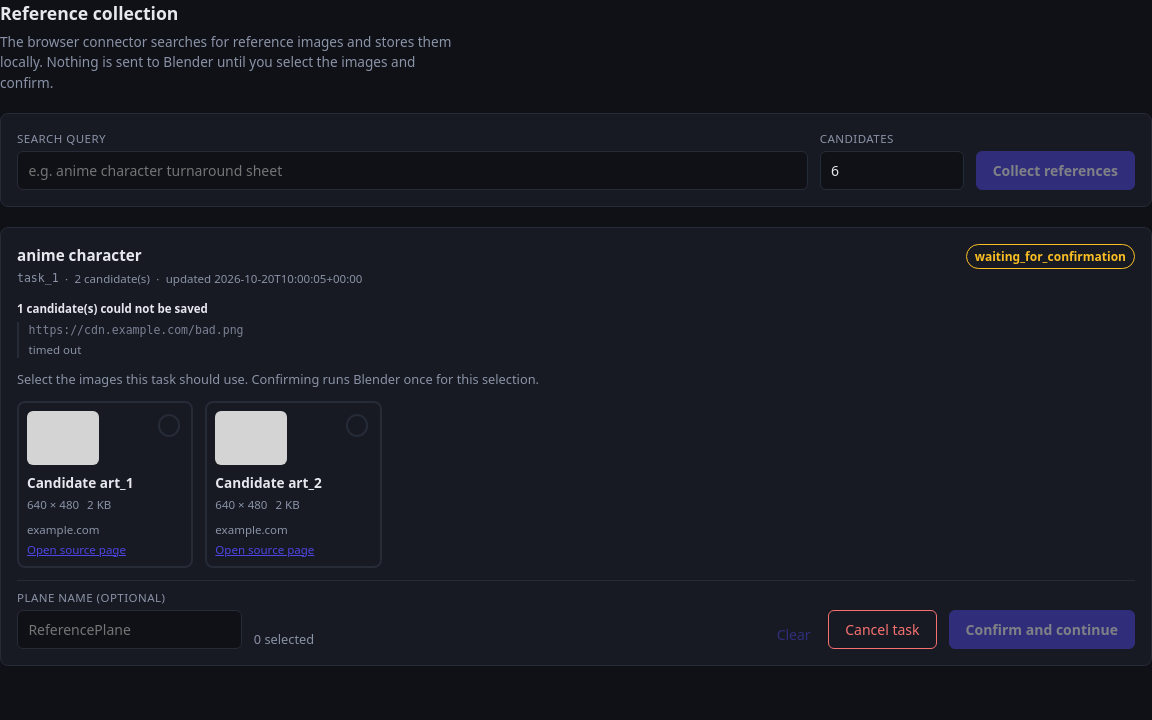
ReferencesView › shows the execution outcome after a successful confirmation
The width and height of the screenshot is (1152, 720).
Click the checkbox with test id "card-art_1" at [105, 484], box [17,401,193,568]
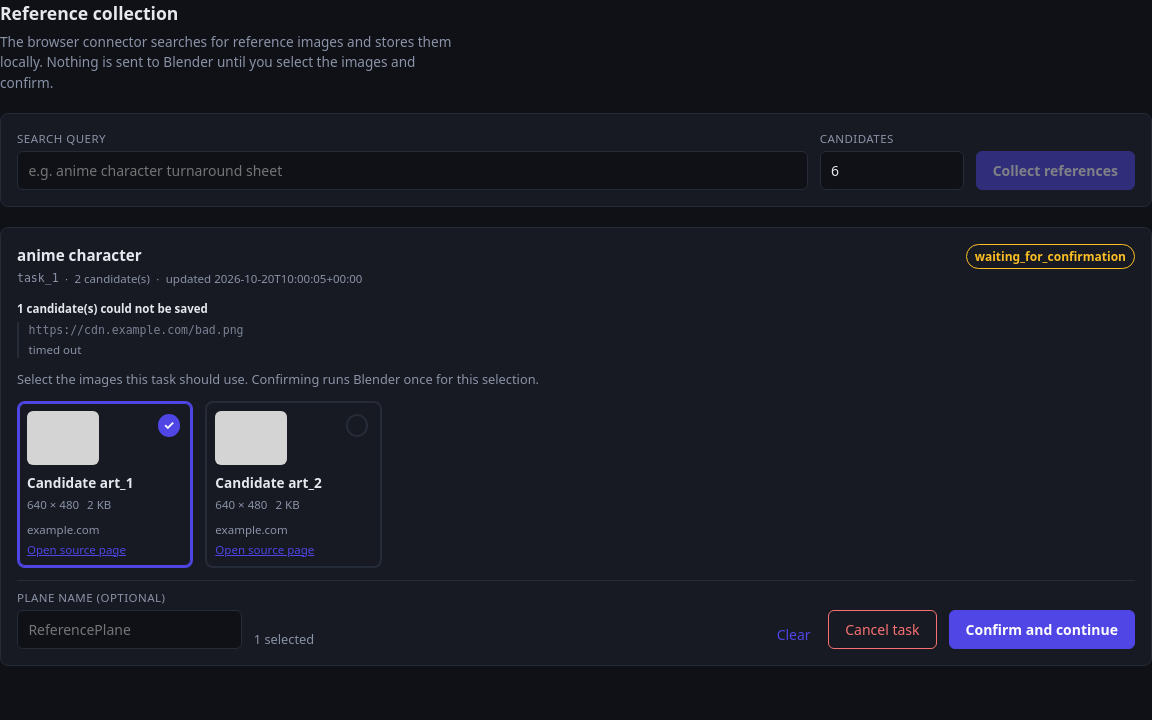
Click the button with test id "confirm" at [1042, 630], box [948,610,1135,649]
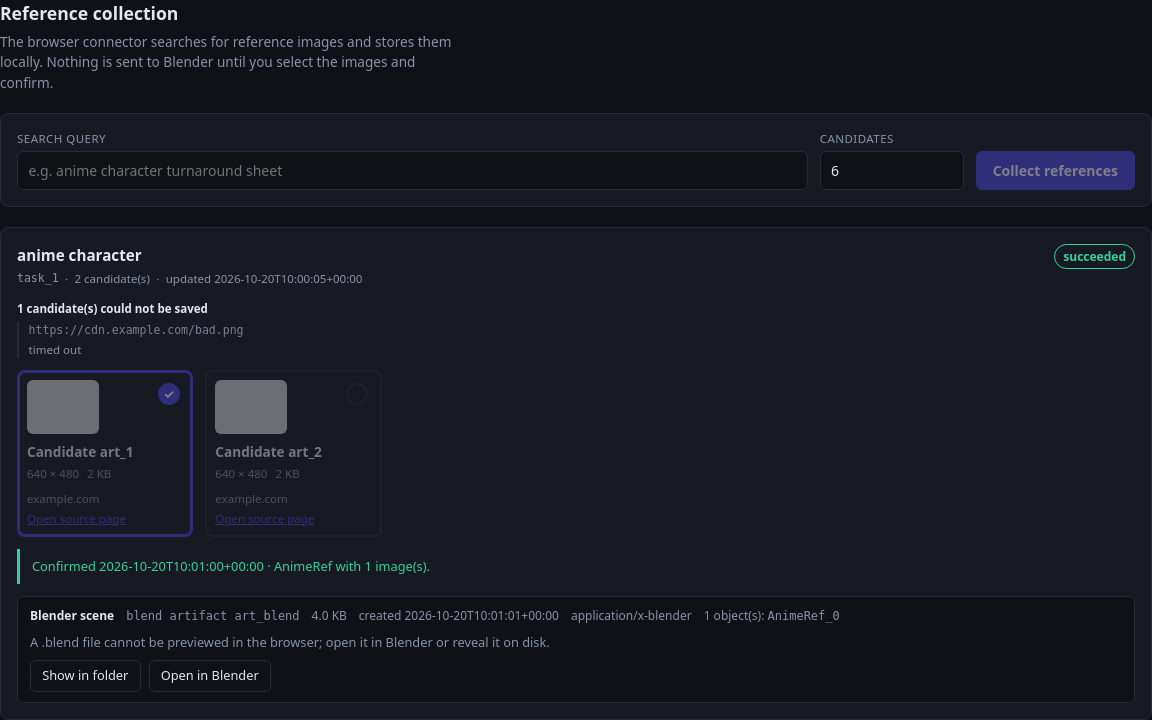
Result: the text "AnimeRef" is shown at [32,557,430,575]
Result: the text "blend artifact art_blend" is shown at [126,607,300,625]
Result: the text "Confirmed" is shown at [32,557,430,575]
